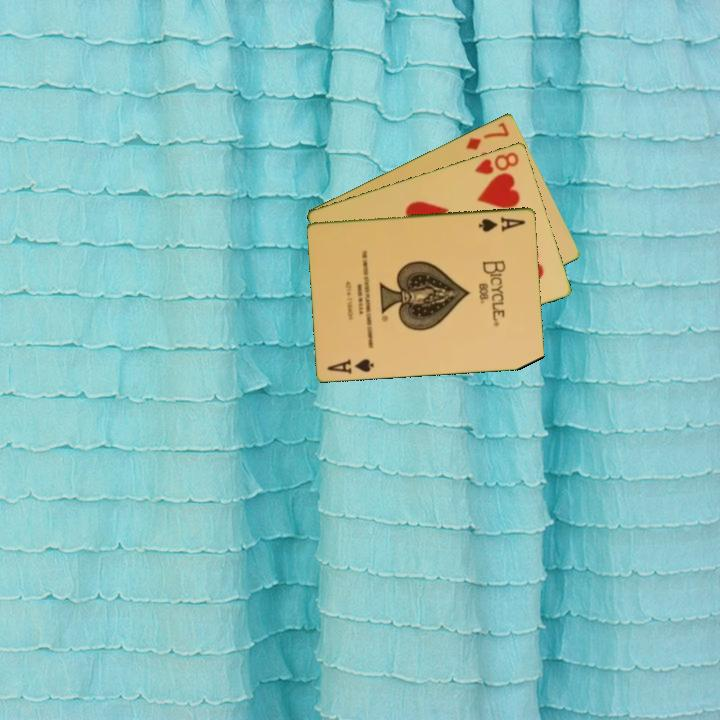7d: (462, 118, 512, 153)
8h: (471, 148, 522, 177)
As: (324, 355, 377, 377), (475, 213, 529, 234)
